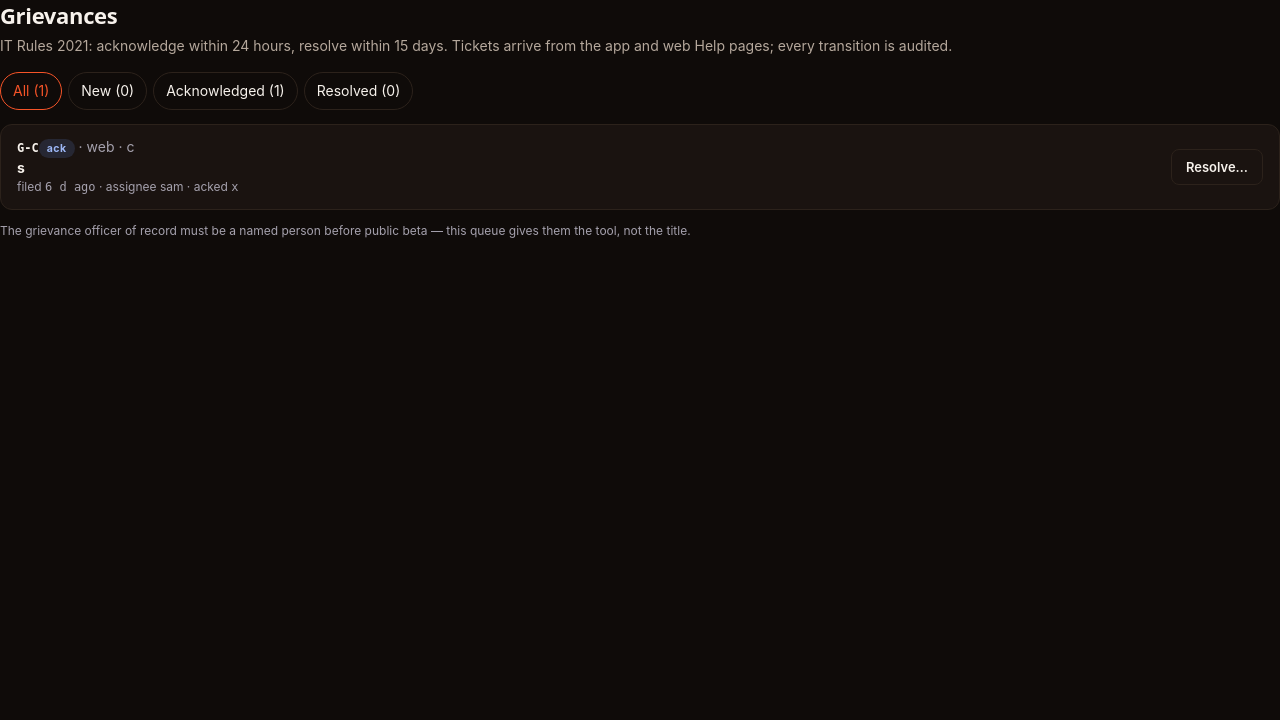
Test case: last handler mile › Grievances offline shows sample empty + resolve modal cancel path
Expected: the text "G-C" is shown, [17,142,39,156]
Click the tab "Acknowledged (1)" at (225, 91), box [153,72,298,110]
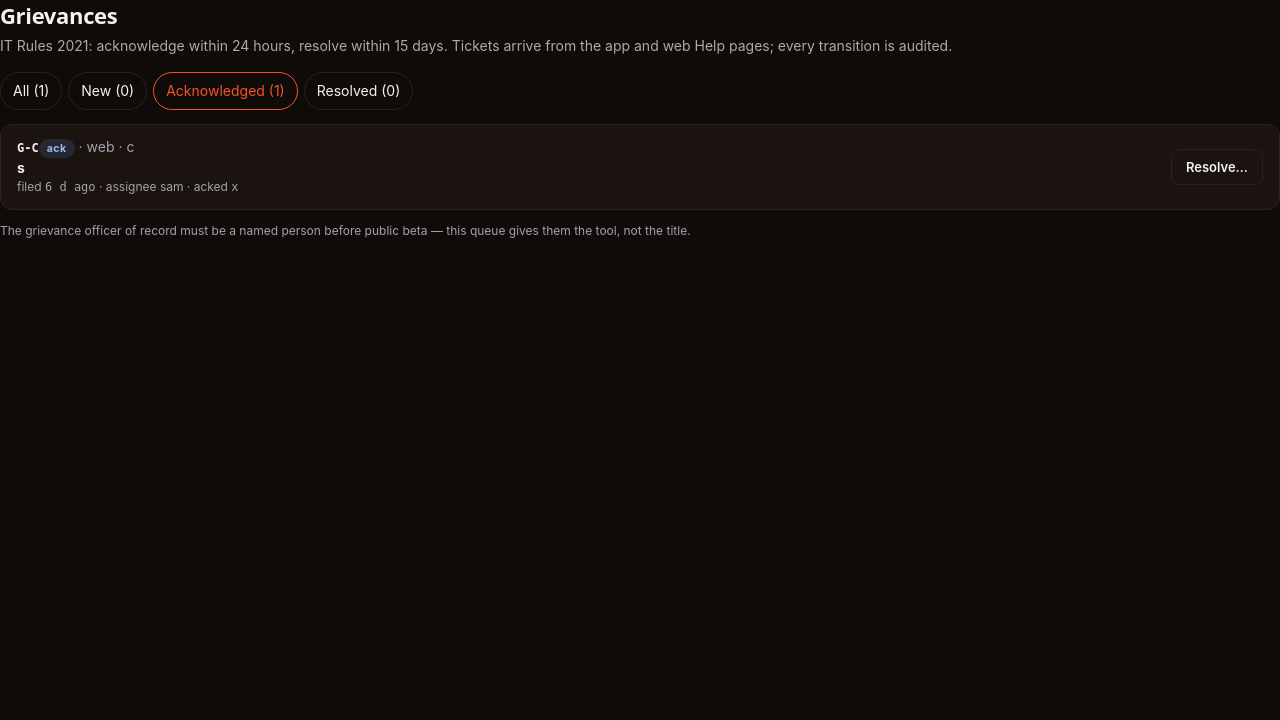
Click the tab "All (1)" at (31, 91), box [0,72,62,110]
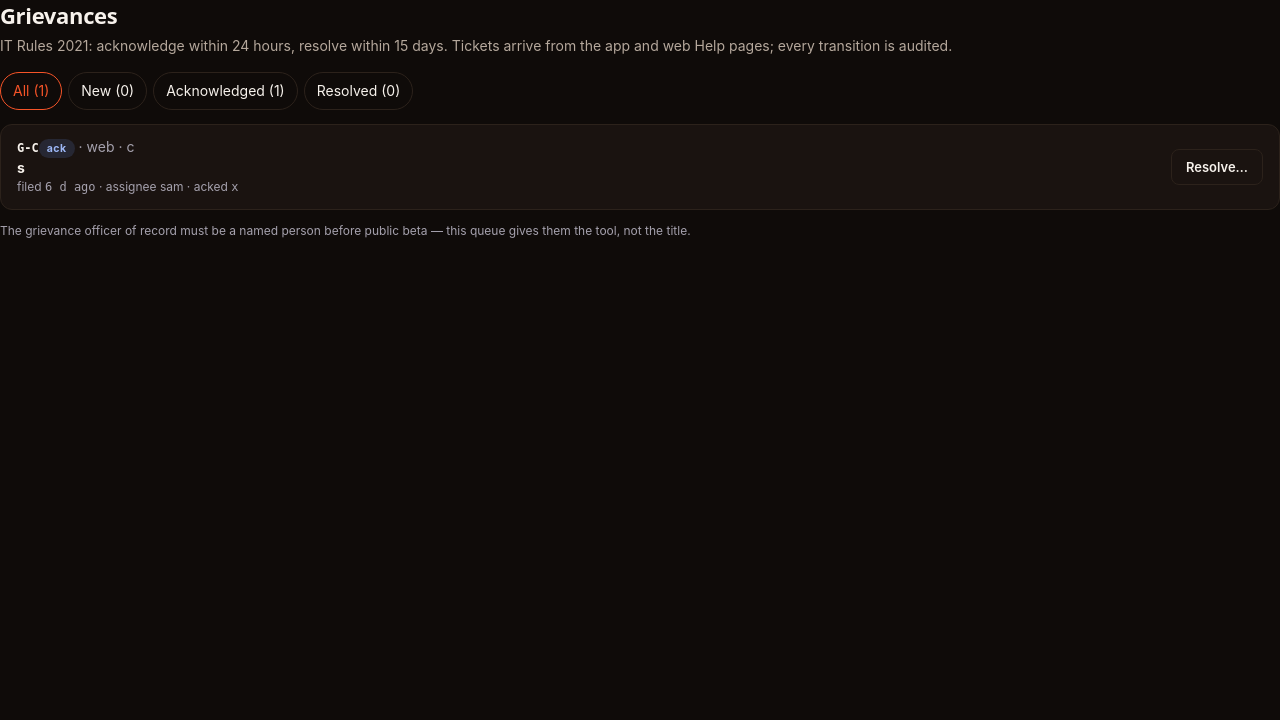
Click the button "Resolve…" at (1217, 167), box [1171,149,1263,185]
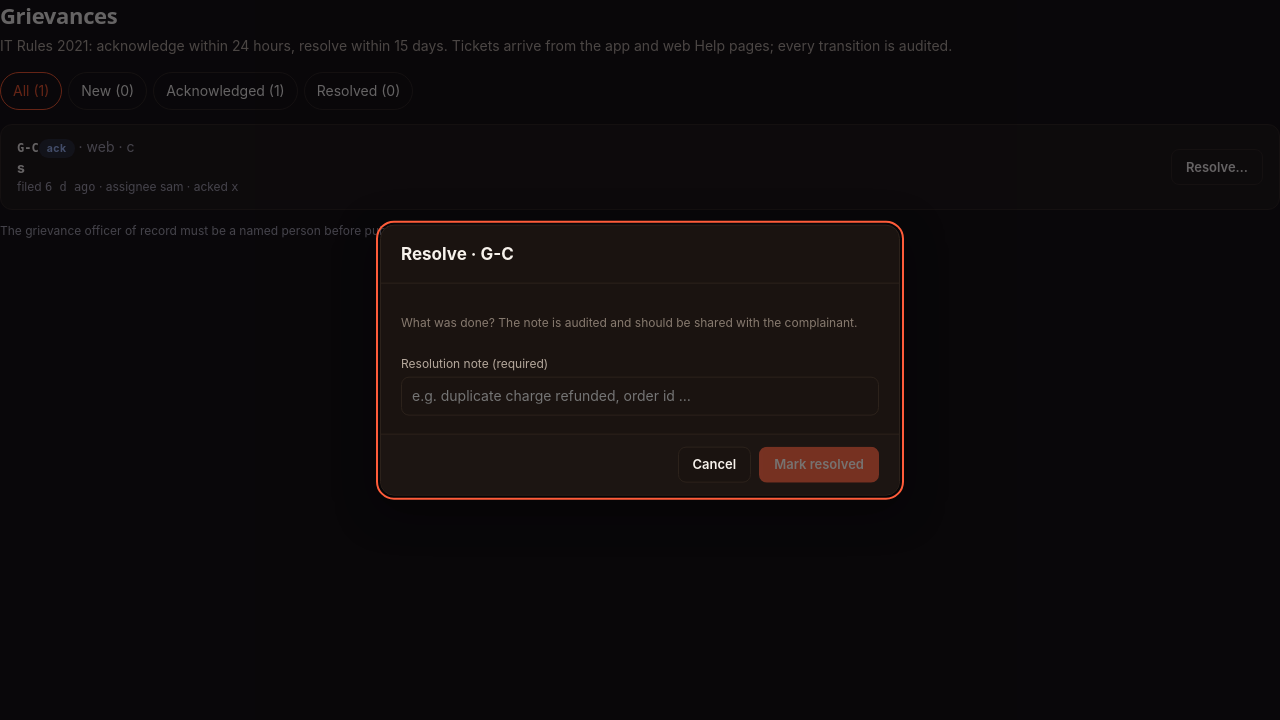
Type "x" into the field labelled "Resolution note (required)" at (640, 396), box [401,377,879,415]
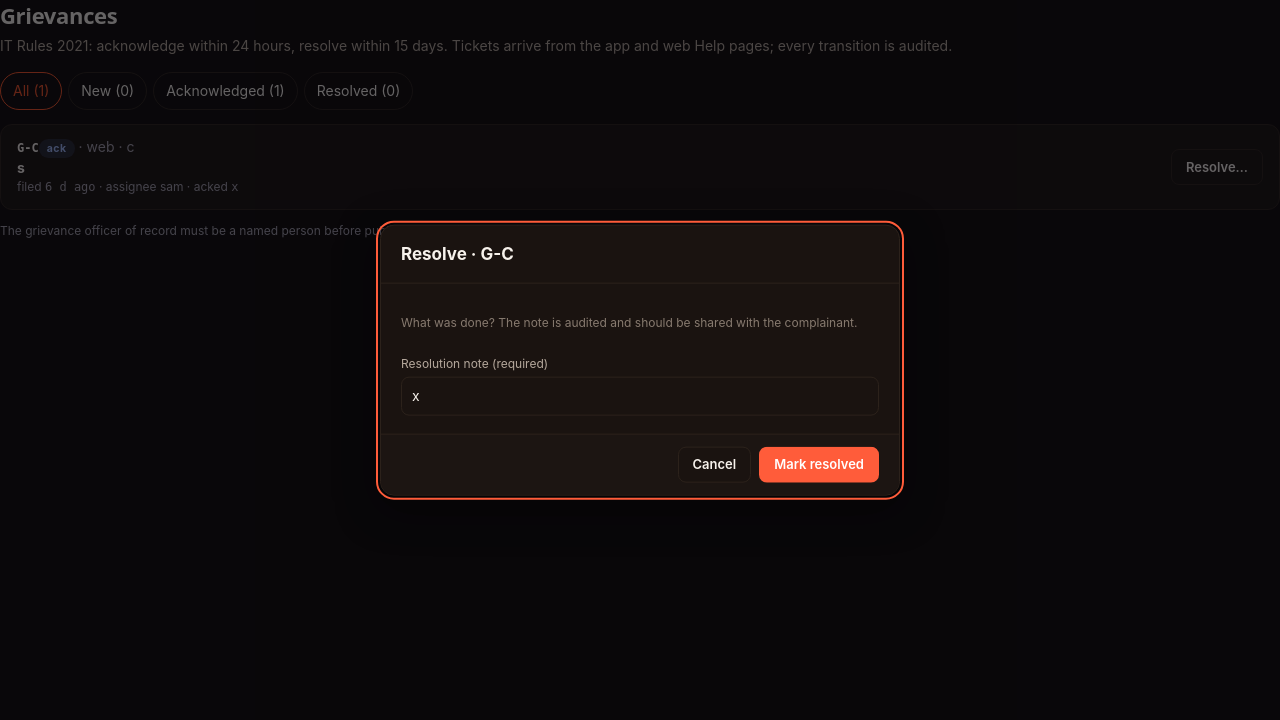
Click the button "Cancel" at (714, 464), box [678,446,751,482]
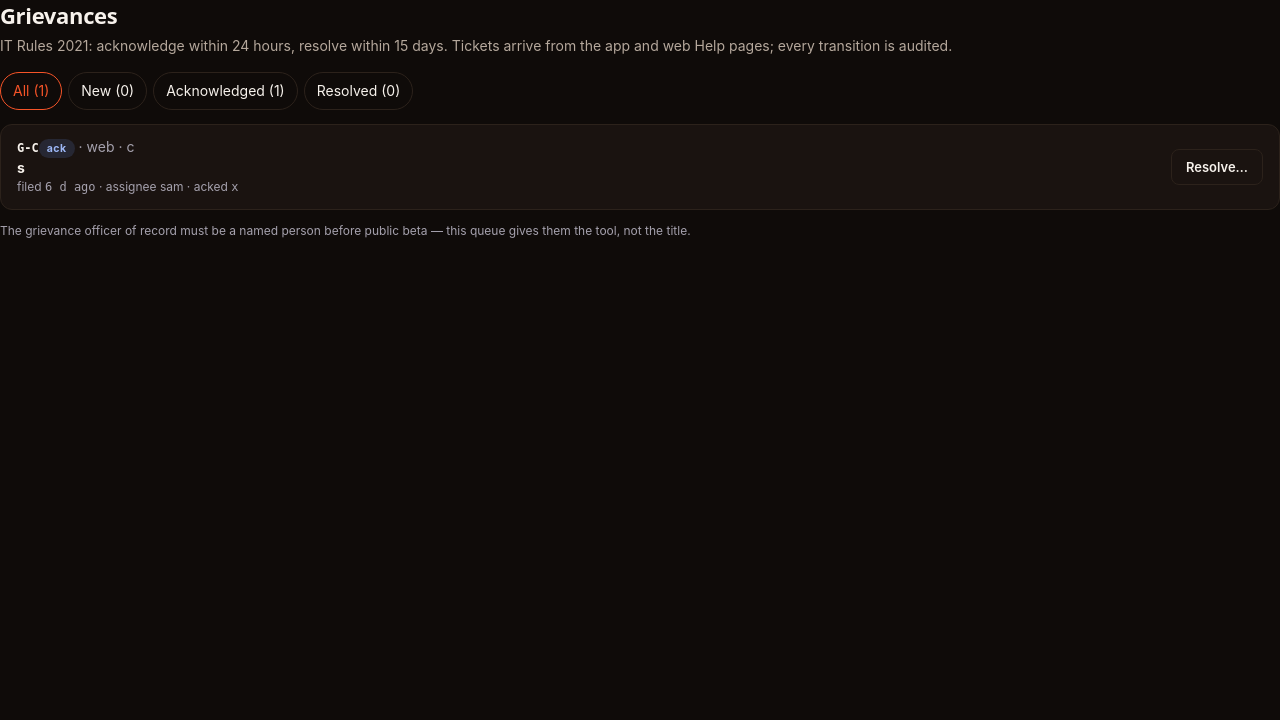
Expected: the dialog is gone
